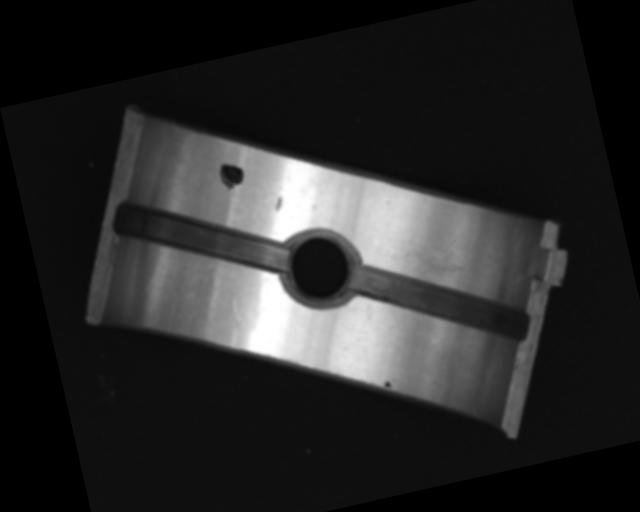blot: (216, 158, 247, 191), (382, 378, 394, 391)
bruise: (218, 296, 251, 349), (271, 194, 284, 212)
gap: (348, 234, 532, 372), (111, 170, 290, 302)
hole: (276, 221, 365, 315)
scratch: (391, 223, 486, 291)
